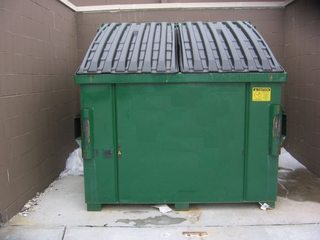Dumpster: (73, 18, 298, 217)
